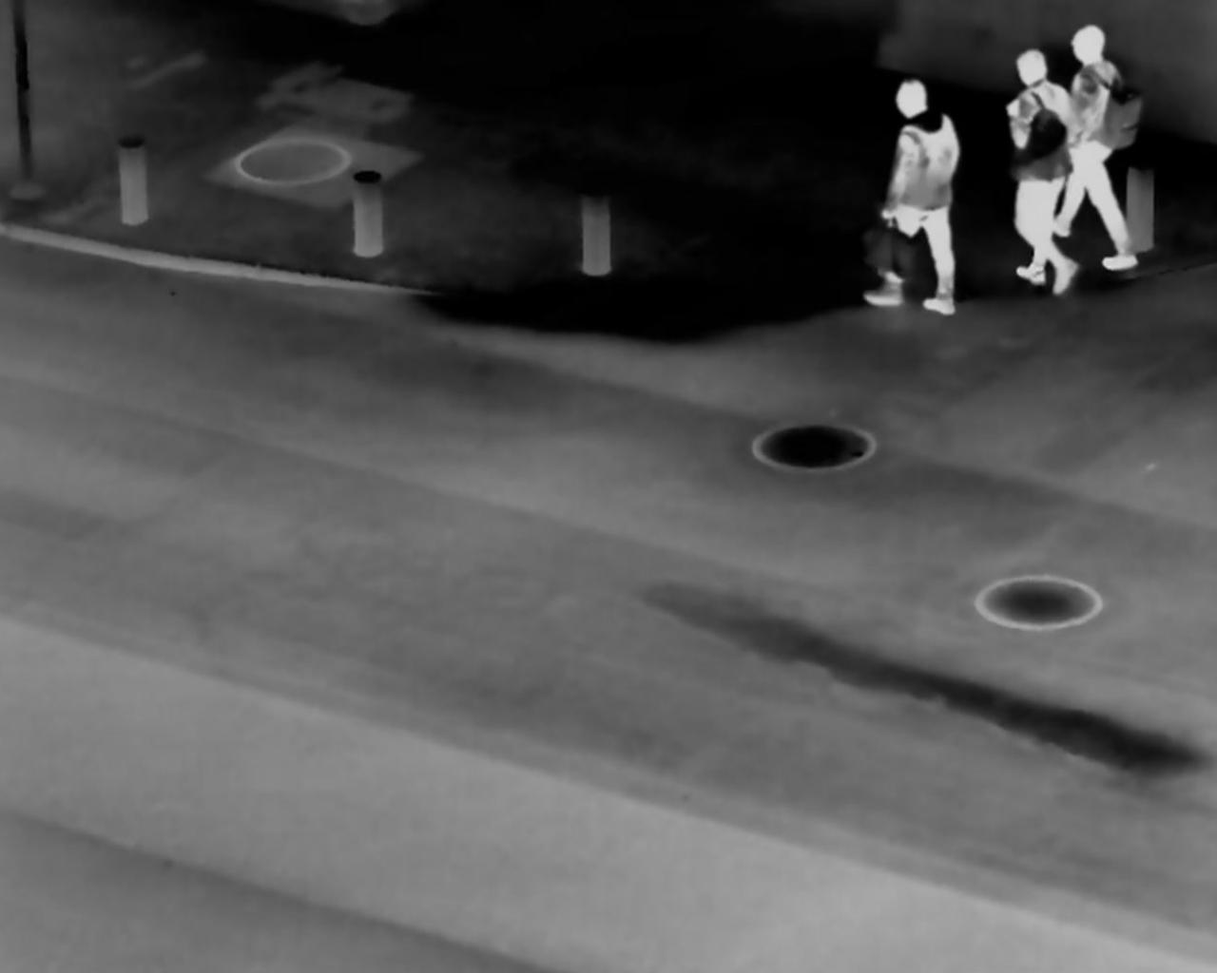person: (878, 73, 964, 321), (1062, 11, 1142, 276), (997, 48, 1076, 295)
